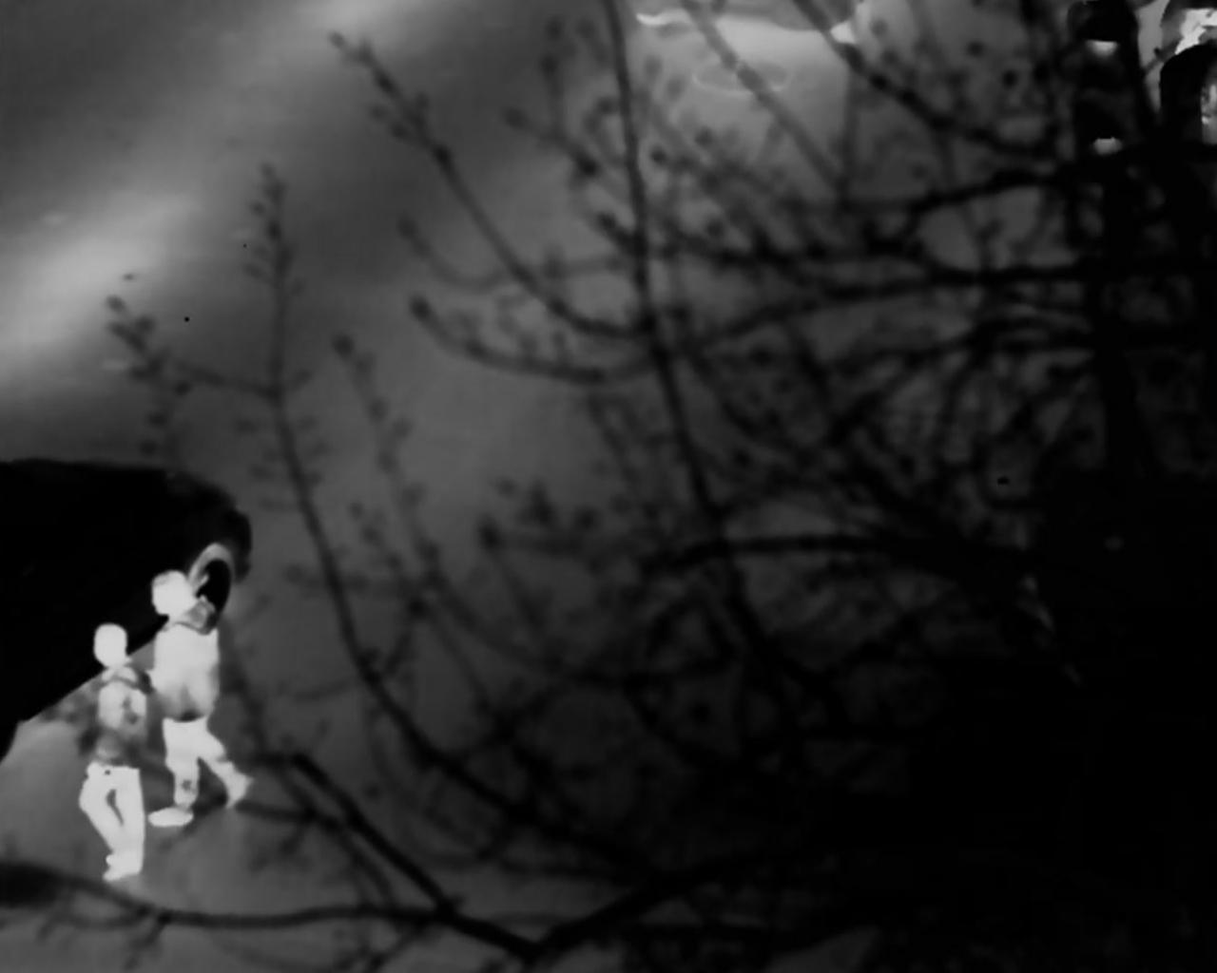person: (144, 564, 250, 828), (77, 625, 161, 872)
